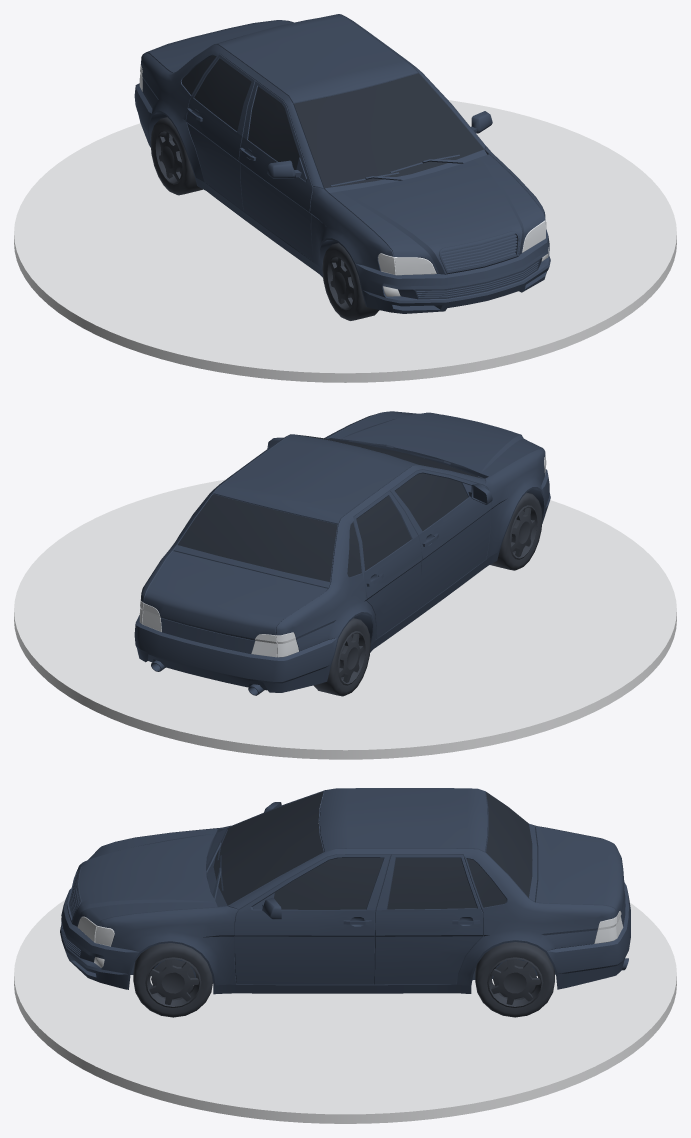
Rendered from sedan.glb.
3 renders of one model, top to bottom at view 1: azimuth 30°, elevation 25°; view 2: azimuth 150°, elevation 25°; view 3: azimuth 270°, elevation 25°, orthographic.
Visible parts, largest first — view 1: turntable, Sedan Body_Body_0, Sedan Body_Glass_0, Wheel_A002_Wheel_0, Wheel_A003_Wheel_0, Sedan Body_Optics_0; view 2: turntable, Sedan Body_Body_0, Sedan Body_Glass_0, Wheel_A003_Wheel_0, Wheel_A002_Wheel_0, Sedan Body_Optics_0; view 3: turntable, Sedan Body_Body_0, Sedan Body_Glass_0, Wheel_A001_Wheel_0, Wheel_A_Wheel_0, Sedan Body_Optics_0.
Boxes of the visible parts, x1,y1,x2,y2 form: turntable: (14,100,676,382); Sedan Body_Body_0: (134,14,550,313); Sedan Body_Glass_0: (181,55,483,188); Wheel_A002_Wheel_0: (322,243,379,320); Wheel_A003_Wheel_0: (150,117,202,195); Sedan Body_Optics_0: (139,64,548,296); turntable: (14,479,676,759); Sedan Body_Body_0: (134,411,550,695); Sedan Body_Glass_0: (177,434,482,581); Wheel_A003_Wheel_0: (313,618,370,696); Wheel_A002_Wheel_0: (490,492,542,570); Sedan Body_Optics_0: (139,453,546,657); turntable: (14,899,676,1123); Sedan Body_Body_0: (60,788,630,994); Sedan Body_Glass_0: (213,791,532,909); Wheel_A001_Wheel_0: (475,942,554,1017); Wheel_A_Wheel_0: (133,943,212,1017); Sedan Body_Optics_0: (77,911,623,967).
Bounding box in the file's own units: 5.06 × 1.42 × 5.06.
